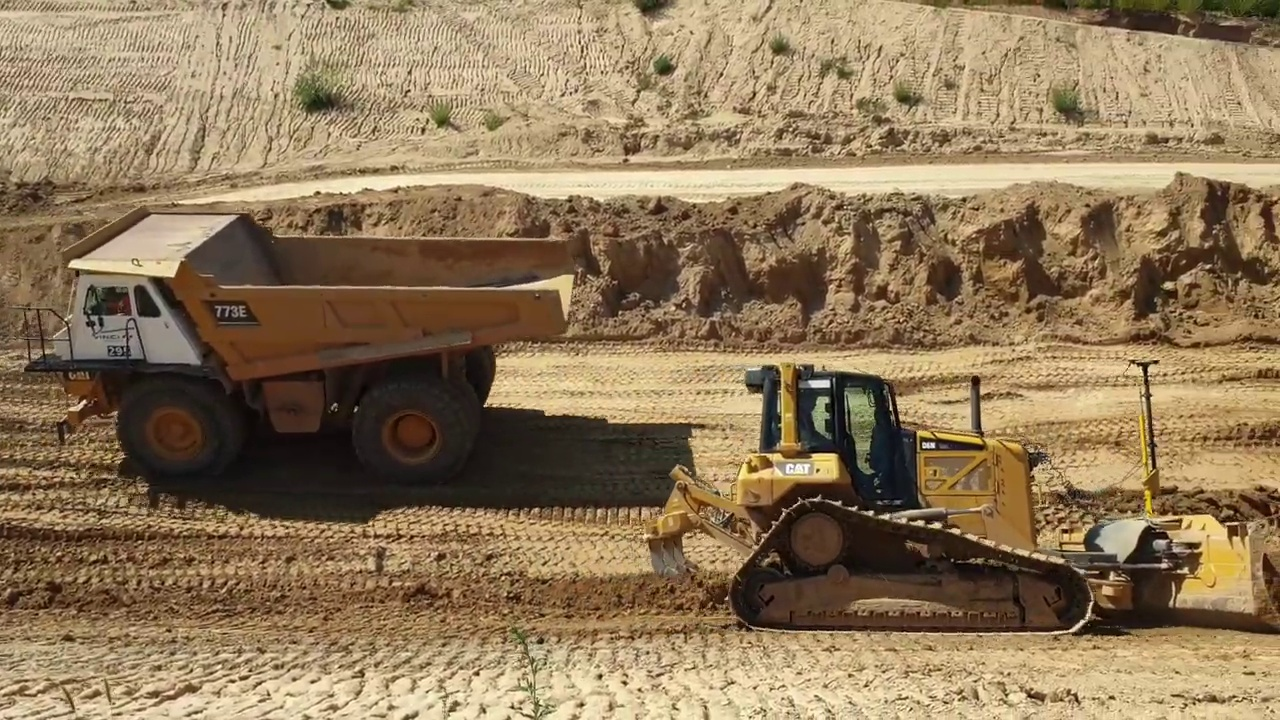bulldozer: (643, 355, 1280, 646)
truck: (16, 199, 583, 495)
